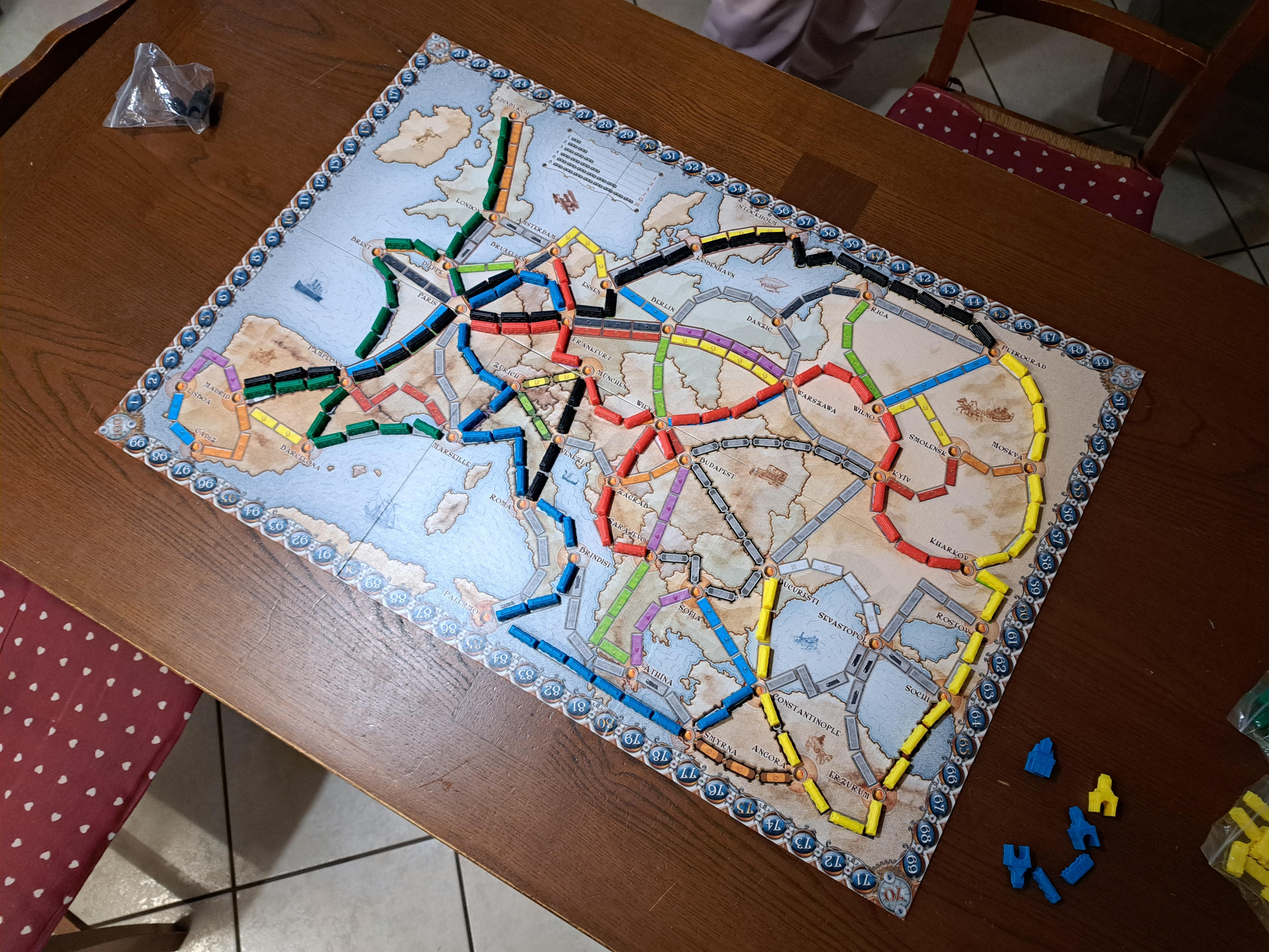corner_bl: (95, 407, 141, 448)
corner_br: (869, 866, 920, 920)
corner_tl: (420, 32, 454, 60)
corner_tr: (1105, 359, 1145, 395)
